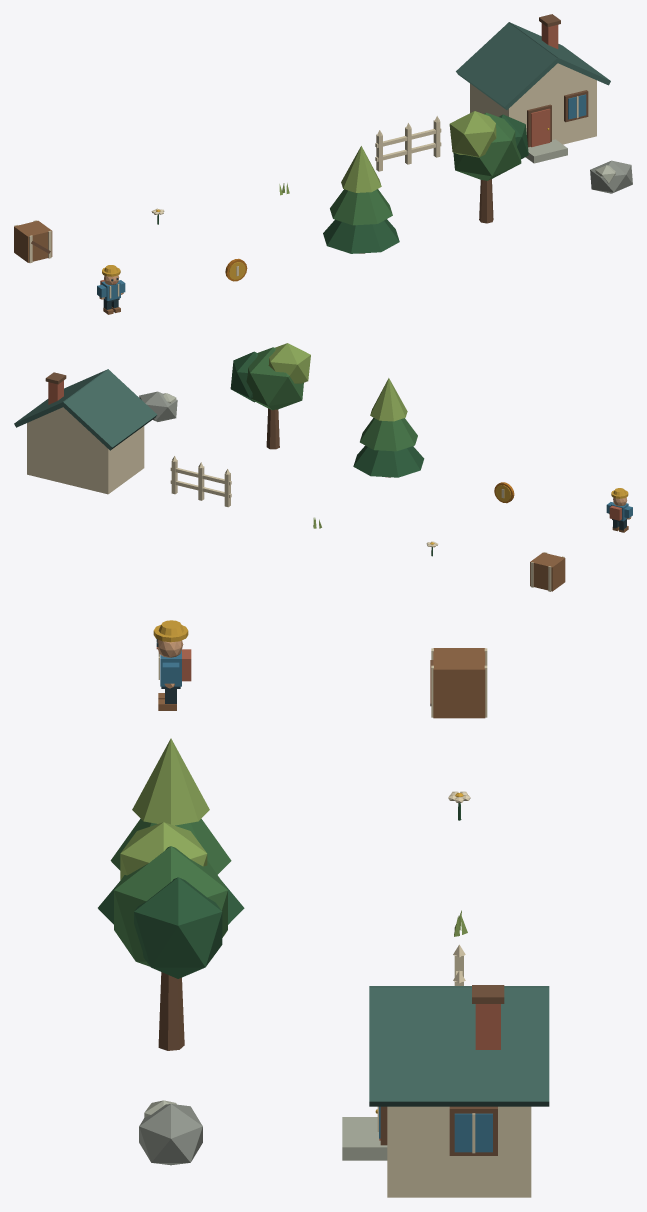
The model's file is meadow-kit.glb.
The picture shows the model from 3 angles, top to bottom: view 1: azimuth 30°, elevation 25°; view 2: azimuth 150°, elevation 25°; view 3: azimuth 270°, elevation 25°; orthographic projection. The views are drawn at different scales.
Parts seen in each view (by area): view 1: SM_Cottage, SM_Tree, SM_Pine, SM_Crate, SM_Fence, SM_Rock, SM_Player_Body; view 2: SM_Cottage, SM_Tree, SM_Pine, SM_Fence, SM_Crate, SM_Rock, SM_Player_Body; view 3: SM_Cottage, SM_Tree, SM_Pine, SM_Crate, SM_Rock, SM_Player_Body.
Boxes of the visible parts, left/top/right/bottom form: SM_Cottage: left=456, top=14, right=610, bottom=163; SM_Tree: left=449, top=111, right=528, bottom=223; SM_Pine: left=323, top=146, right=399, bottom=253; SM_Crate: left=14, top=220, right=52, bottom=263; SM_Fence: left=375, top=116, right=441, bottom=171; SM_Rock: left=590, top=160, right=632, bottom=193; SM_Player_Body: left=100, top=265, right=120, bottom=302; SM_Cottage: left=14, top=369, right=157, bottom=494; SM_Tree: left=230, top=343, right=310, bottom=449; SM_Pine: left=353, top=378, right=424, bottom=477; SM_Fence: left=170, top=456, right=231, bottom=507; SM_Crate: left=530, top=552, right=565, bottom=591; SM_Rock: left=139, top=391, right=177, bottom=421; SM_Player_Body: left=609, top=488, right=628, bottom=522; SM_Cottage: left=342, top=985, right=549, bottom=1197; SM_Tree: left=114, top=822, right=227, bottom=1050; SM_Pine: left=98, top=738, right=244, bottom=924; SM_Crate: left=430, top=648, right=487, bottom=718; SM_Rock: left=139, top=1100, right=202, bottom=1165; SM_Player_Body: left=153, top=620, right=191, bottom=688.
Bounding box in the file's own units: 16.74 × 3.34 × 6.27.
